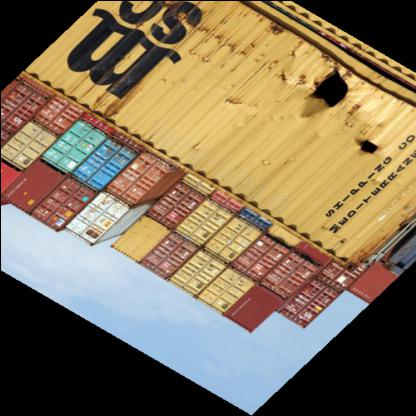Damage: (190, 36, 293, 84), (288, 49, 352, 124), (344, 127, 381, 174)
